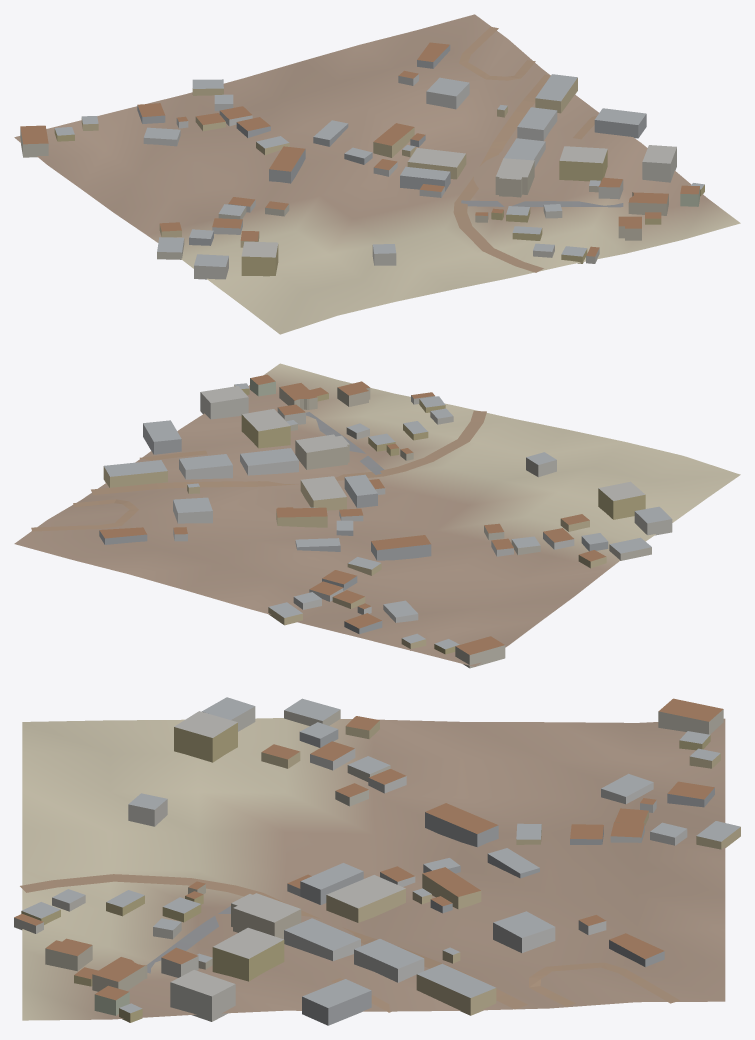
The picture shows the model from 3 angles, top to bottom: view 1: azimuth 30°, elevation 25°; view 2: azimuth 150°, elevation 25°; view 3: azimuth 270°, elevation 25°; orthographic projection. The views are drawn at different scales.
Parts seen in each view (by area): view 1: Lo; view 2: Lo; view 3: Lo.
Part boxes in pixels (box(x1,y1,x2,y2)): Lo: box(14, 14, 740, 334); Lo: box(14, 363, 740, 668); Lo: box(14, 697, 740, 1025).
Bounding box in the file's own units: 277 × 13.99 × 265.
